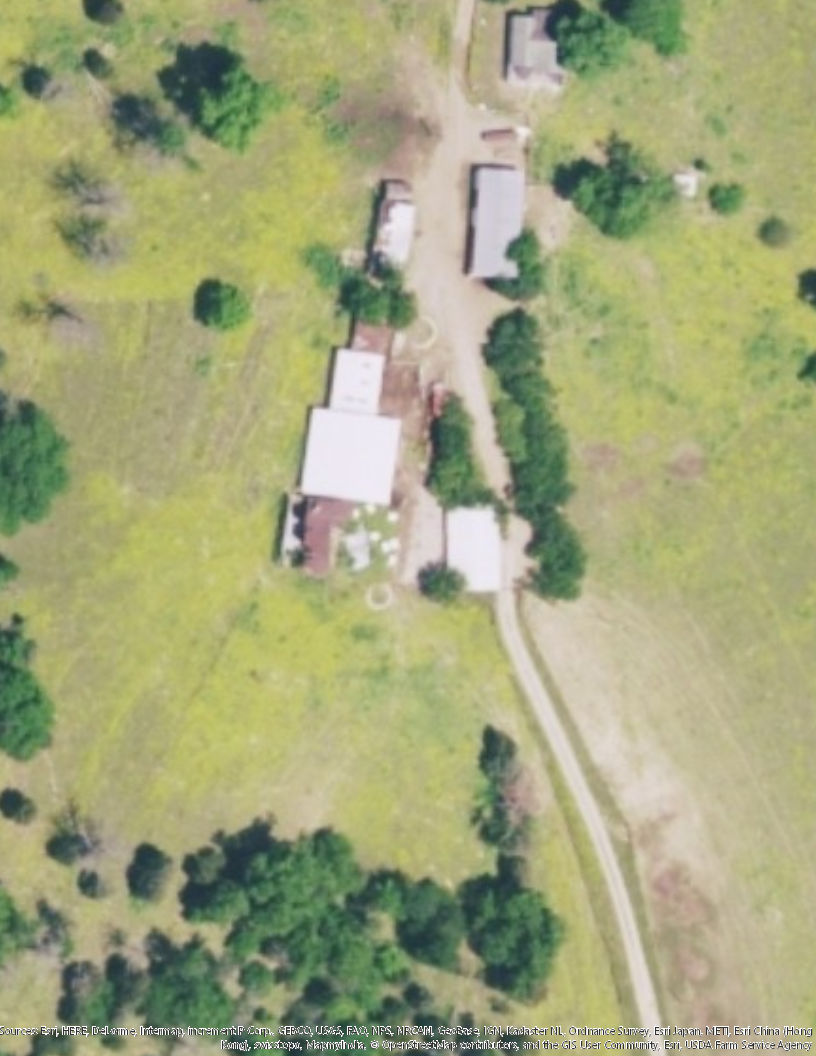cafo: (273, 173, 425, 578)
